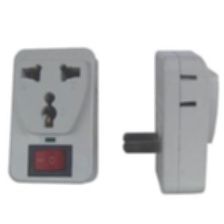three_eye_plug: (118, 45, 222, 196), (4, 46, 100, 188)
